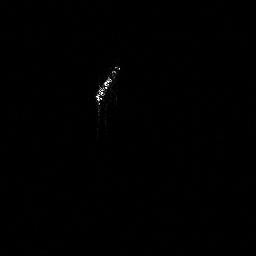ship: (91, 59, 123, 114)
